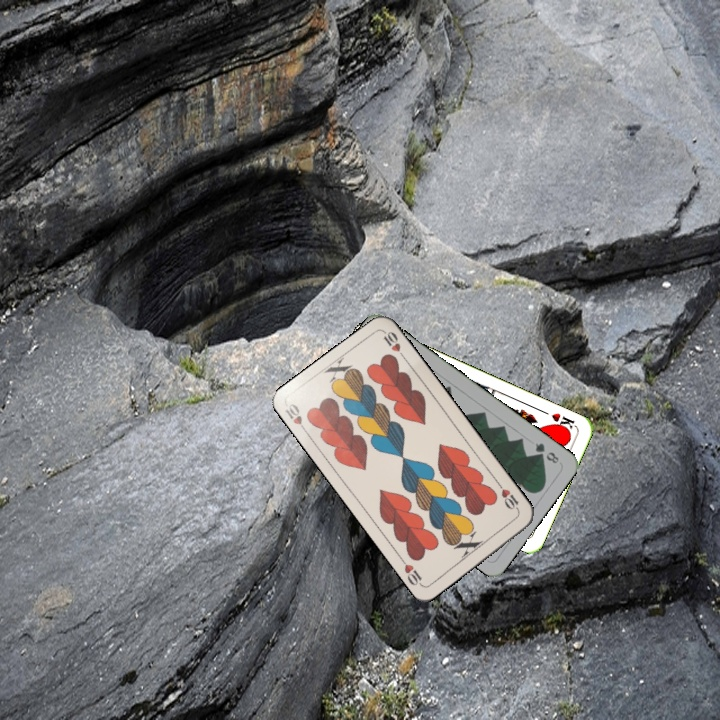G8: (531, 439, 562, 466)
H10: (281, 399, 311, 437), (494, 479, 522, 515)
HK: (548, 409, 578, 435)
